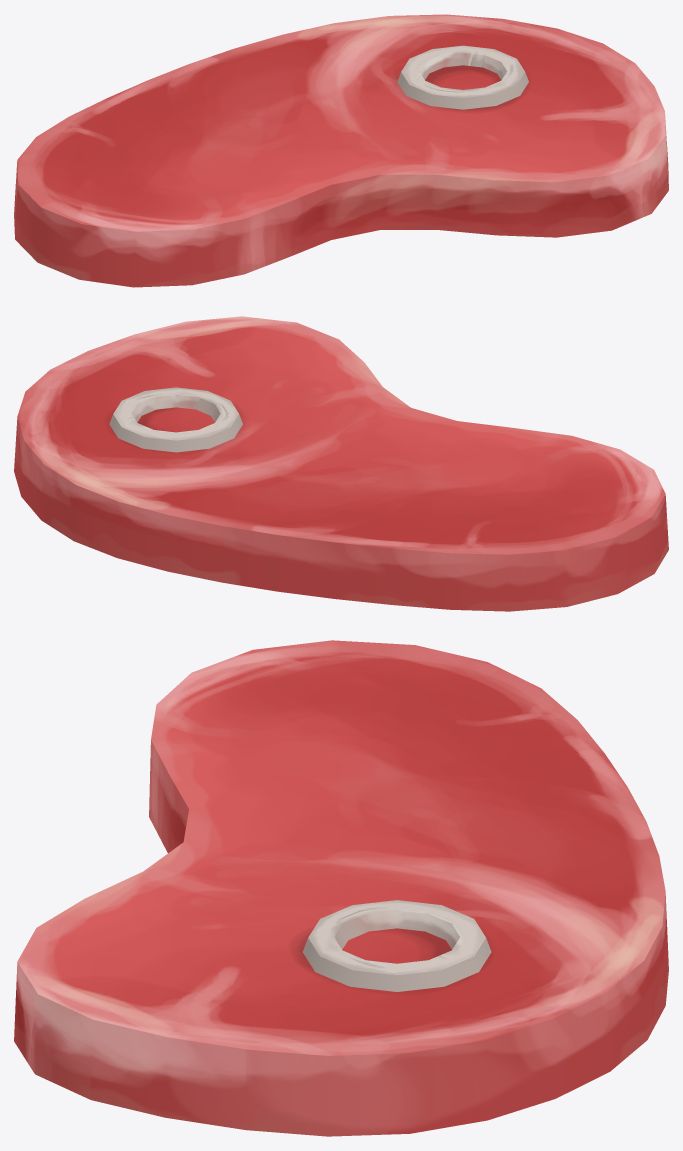
The model's file is RawMeat2.glb.
3 views of the same model, one above another, from view 1: azimuth 30°, elevation 25°; view 2: azimuth 150°, elevation 25°; view 3: azimuth 270°, elevation 25° (orthographic). The views are drawn at different scales.
Parts seen in each view (by area): view 1: Object_8; view 2: Object_8; view 3: Object_8.
Boxes of the visible parts, x1=… form: Object_8: x1=14, y1=14, x2=668, y2=287; Object_8: x1=14, y1=316, x2=668, y2=611; Object_8: x1=14, y1=640, x2=668, y2=1136.
Size of the model in its own units: 0.2894 by 0.0301 by 0.1908.
Materials: 1 (1 with a texture image).
